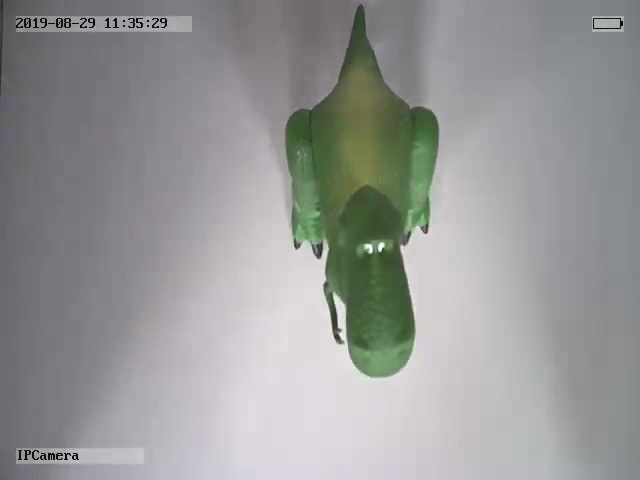rex: (285, 5, 443, 378)
